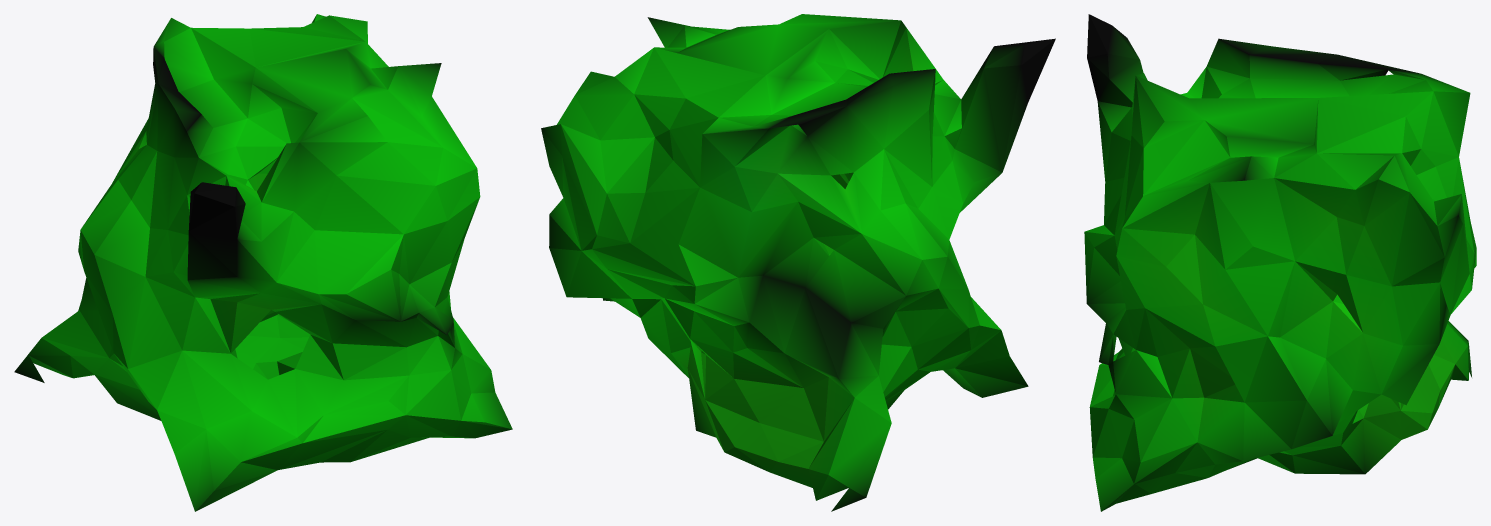
3 views of the same model, side by side, from view 1: azimuth 30°, elevation 25°; view 2: azimuth 150°, elevation 25°; view 3: azimuth 270°, elevation 25° (orthographic). The views are drawn at different scales.
Visible parts, largest first — view 1: output.ply; view 2: output.ply; view 3: output.ply.
Part boxes in pixels (<box>): output.ply: <box>14,14,512,511</box>; output.ply: <box>541,14,1055,511</box>; output.ply: <box>1084,14,1476,511</box>.
Bounding box in the file's own units: 1.98 × 1.99 × 1.99.
